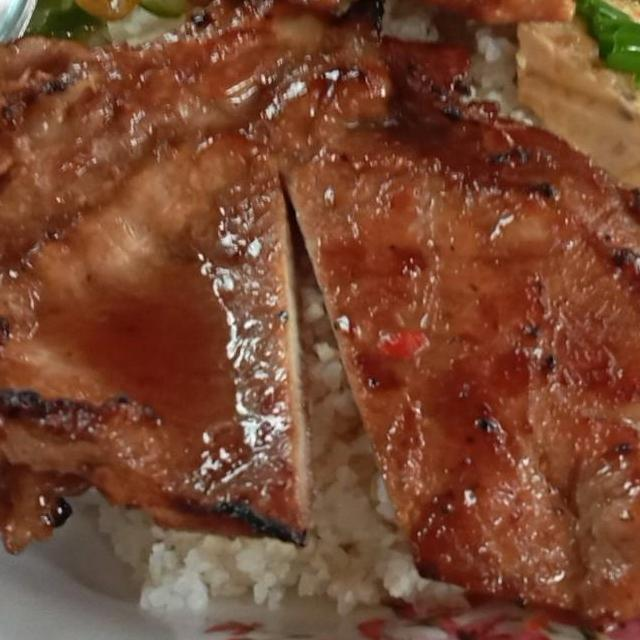cha: (499, 0, 640, 344)
com: (286, 255, 482, 626), (74, 478, 485, 636)
com suon cha: (0, 0, 640, 640)
suon: (0, 0, 640, 639), (162, 0, 583, 50)
